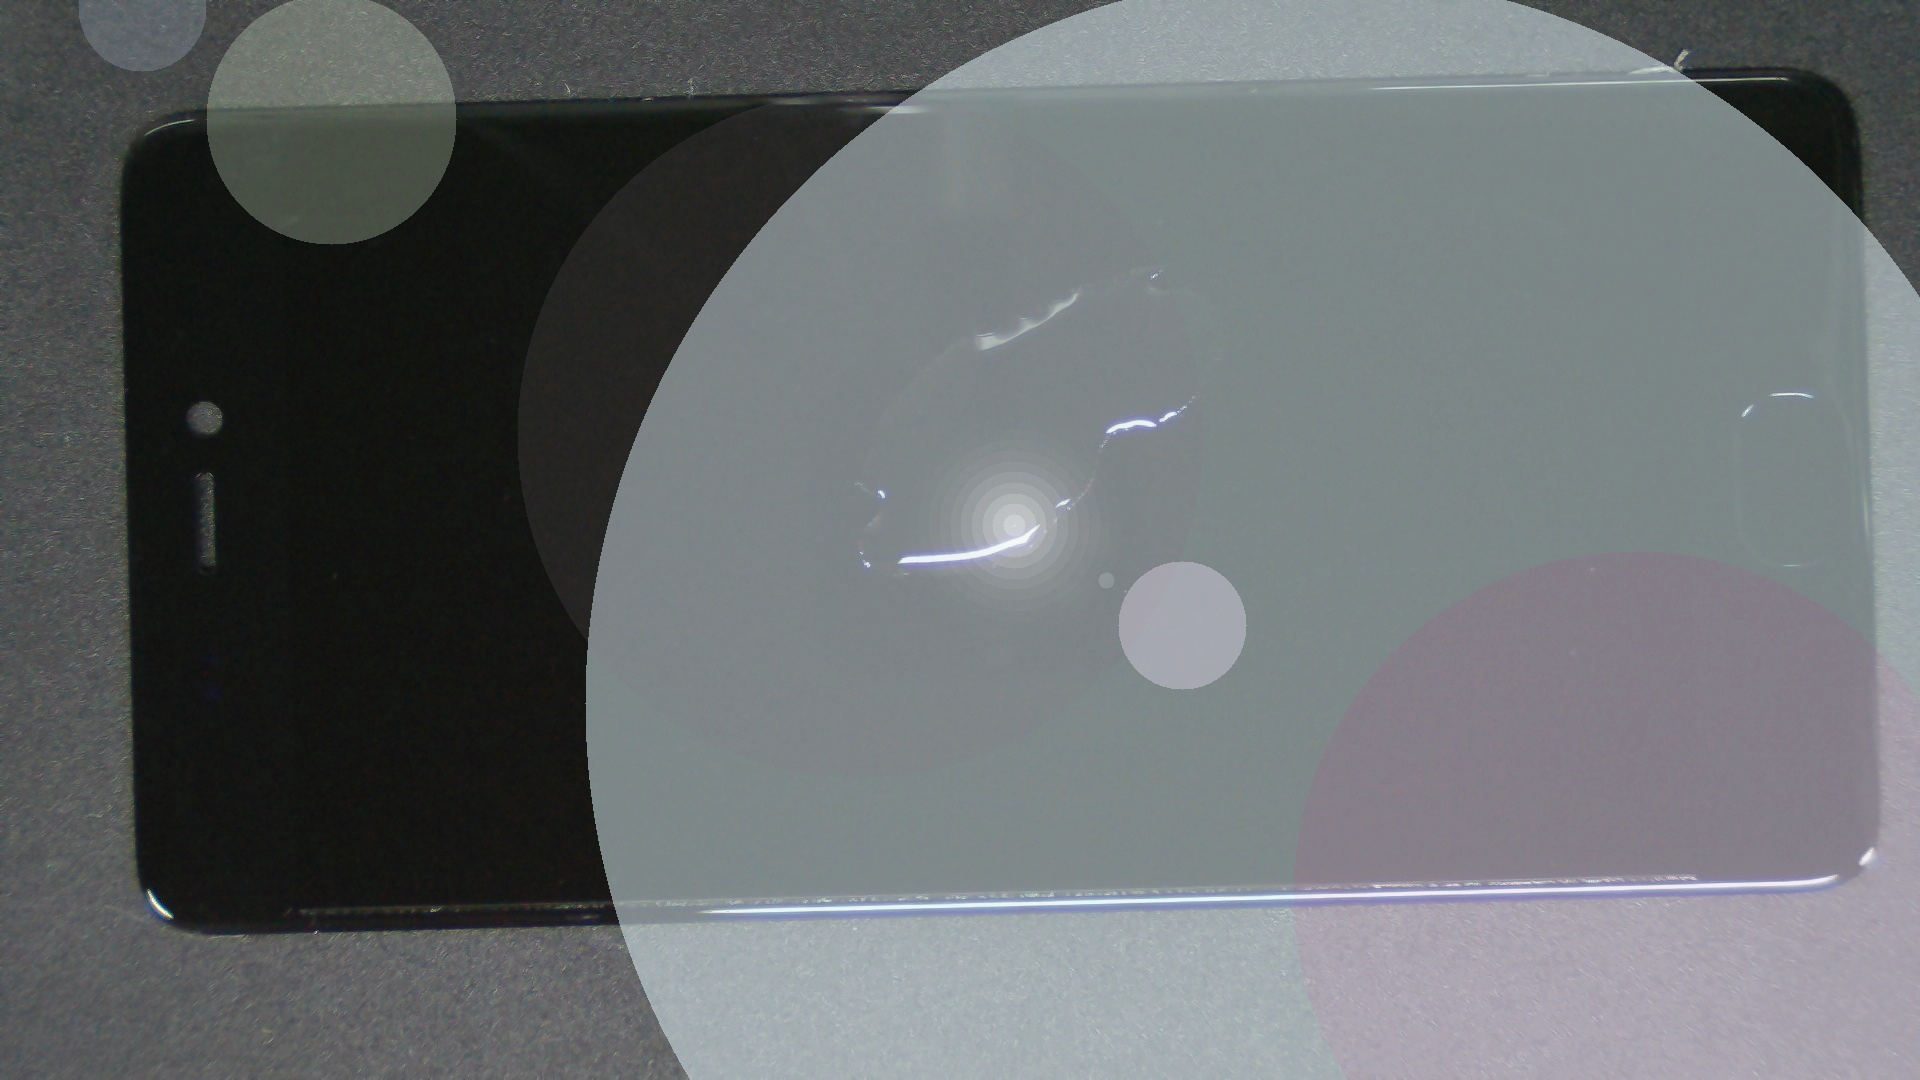oil: (578, 132, 1729, 400)
